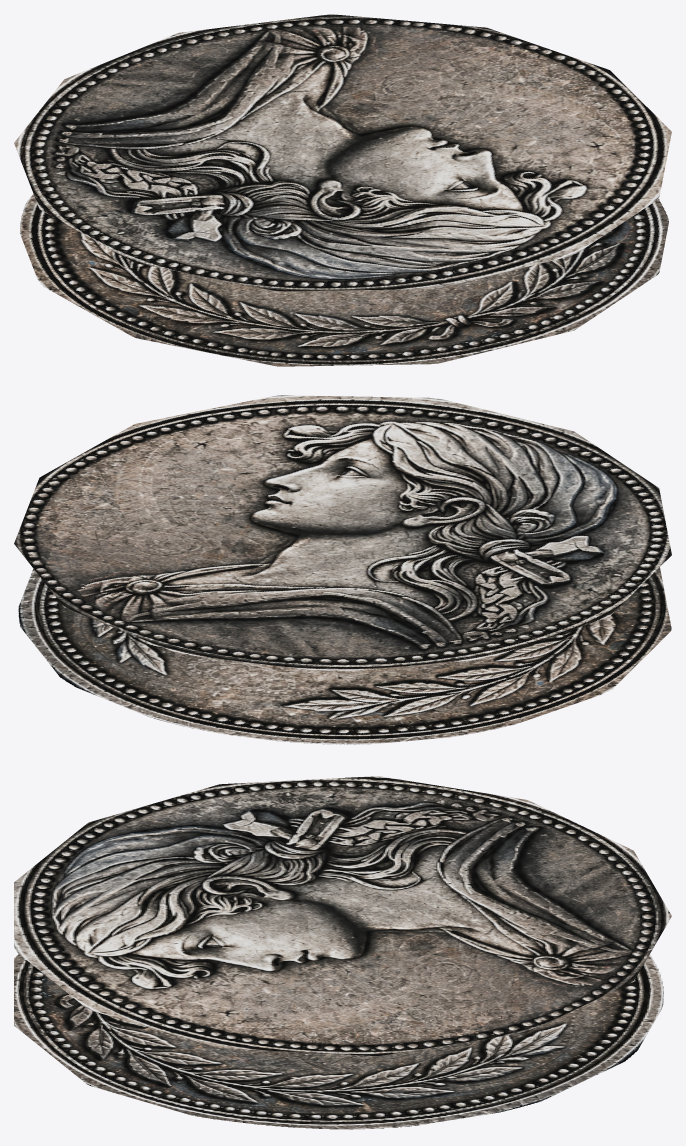
The model's file is coin.fbx.
The picture shows the model from 3 angles, top to bottom: view 1: azimuth 30°, elevation 25°; view 2: azimuth 150°, elevation 25°; view 3: azimuth 270°, elevation 25°; orthographic projection.
Visible parts, largest first — view 1: Coin; view 2: Coin; view 3: Coin.
Boxes of the visible parts, x1,y1,x2,y2 form: Coin: (14, 14, 671, 366); Coin: (14, 395, 671, 744); Coin: (14, 776, 671, 1129).
Size of the model in its own units: 179 by 22.5 by 177.
